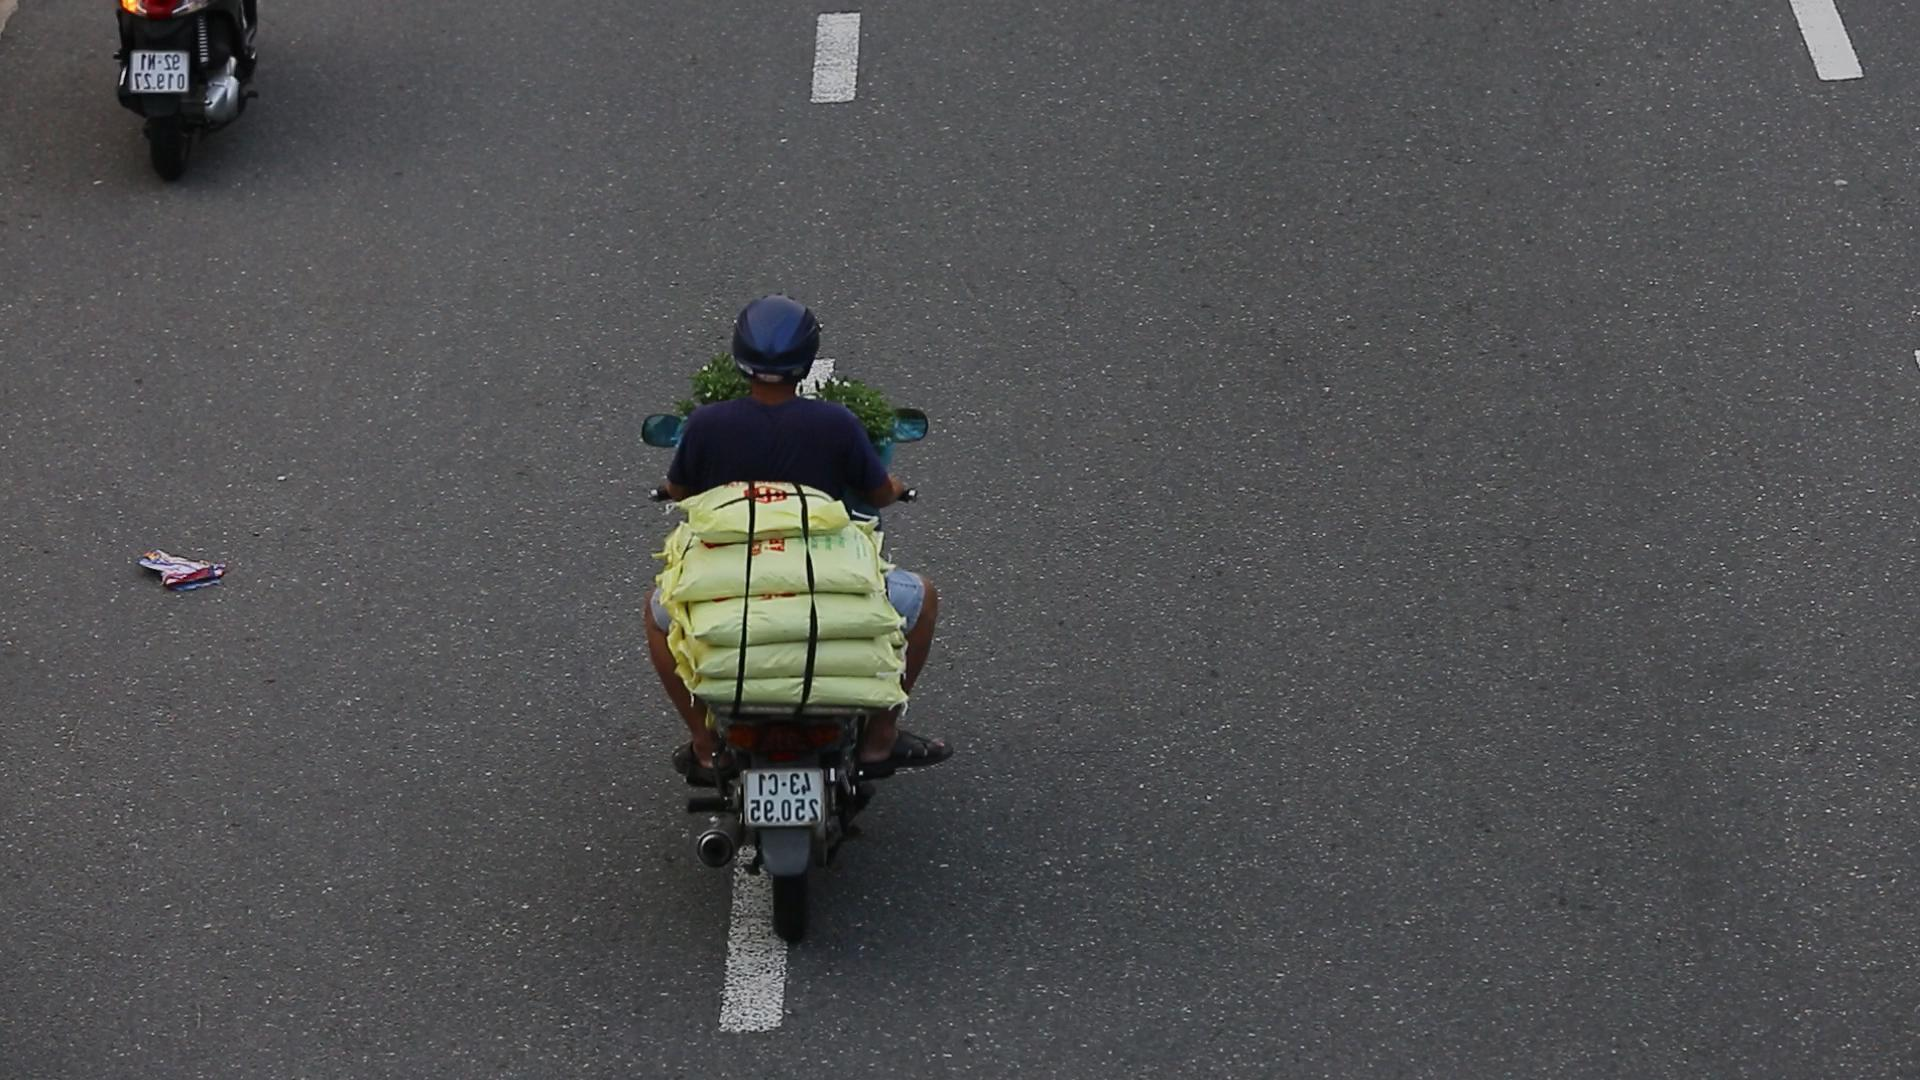motobike: (593, 282, 971, 1014)
